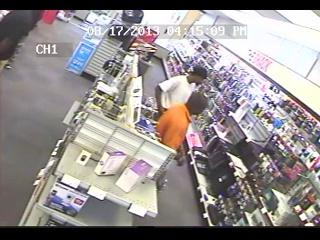Normal: (156, 88, 210, 152), (154, 65, 208, 118), (0, 10, 44, 62)
